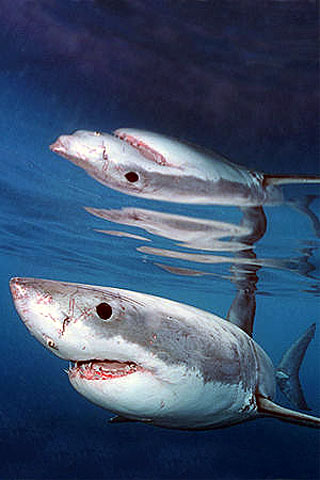Carcharodon_carcharias: (7, 270, 320, 457)
